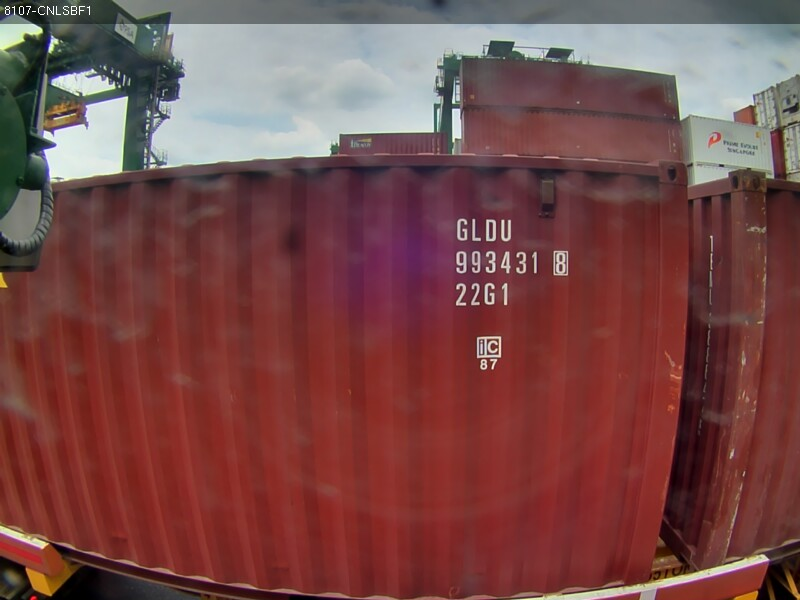container_no_door: (358, 154, 692, 588)
